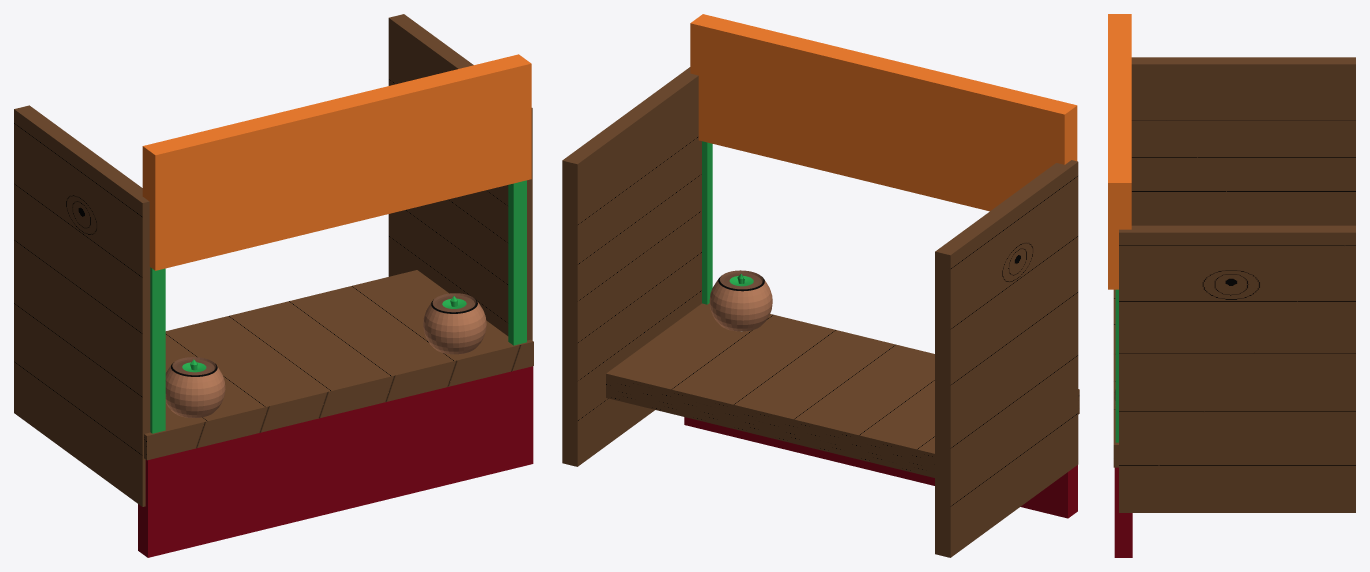
Rendered from Store.fbx.
3 views of the same model, side by side, from view 1: azimuth 30°, elevation 25°; view 2: azimuth 150°, elevation 25°; view 3: azimuth 270°, elevation 25° (orthographic). The views are drawn at different scales.
Parts seen in each view (by area): view 1: Cube.004, Cube.003, Cube.001, Cube, Sphere, Cube.002; view 2: Cube.004, Cube.003, Cube, Cube.001, Sphere, Cube.002; view 3: Cube.004, Cube.003, Cube.001, Cube.002, Cube.
Part boxes in pixels (x1,y1,x2,y2): Cube.004: (14, 14, 532, 506); Cube.003: (142, 54, 531, 270); Cube.001: (138, 366, 533, 557); Cube: (144, 270, 533, 460); Sphere: (165, 293, 486, 418); Cube.002: (150, 180, 526, 433); Cube.004: (562, 67, 1078, 557); Cube.003: (690, 14, 1077, 211); Cube: (606, 303, 1079, 477); Cube.001: (684, 417, 1077, 518); Sphere: (709, 270, 772, 331); Cube.002: (702, 141, 712, 304); Cube.004: (1119, 57, 1355, 512); Cube.003: (1108, 14, 1131, 289); Cube.001: (1114, 467, 1132, 557); Cube.002: (1115, 289, 1118, 442); Cube: (1113, 289, 1118, 467).
Bounding box in the file's own units: 830 × 822 × 495.
